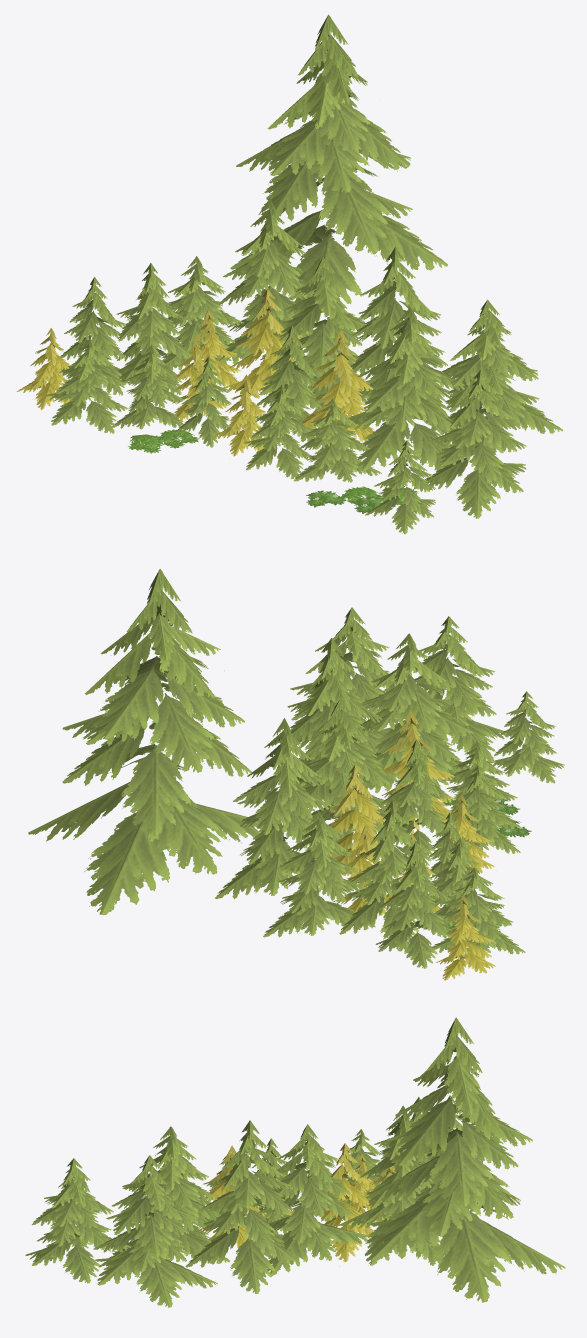
File: area_11_23.fbx
3 renders of one model, top to bottom at view 1: azimuth 30°, elevation 25°; view 2: azimuth 150°, elevation 25°; view 3: azimuth 270°, elevation 25°, orthographic. The views are drawn at different scales.
Parts seen in each view (by area): view 1: area_11_23; view 2: area_11_23; view 3: area_11_23.
Boxes of the visible parts, x1=… form: area_11_23: x1=16, y1=14, x2=562, y2=534; area_11_23: x1=28, y1=569, x2=564, y2=980; area_11_23: x1=25, y1=1017, x2=565, y2=1307.
Size of the model in its own units: 32.44 by 23.34 by 40.12.
